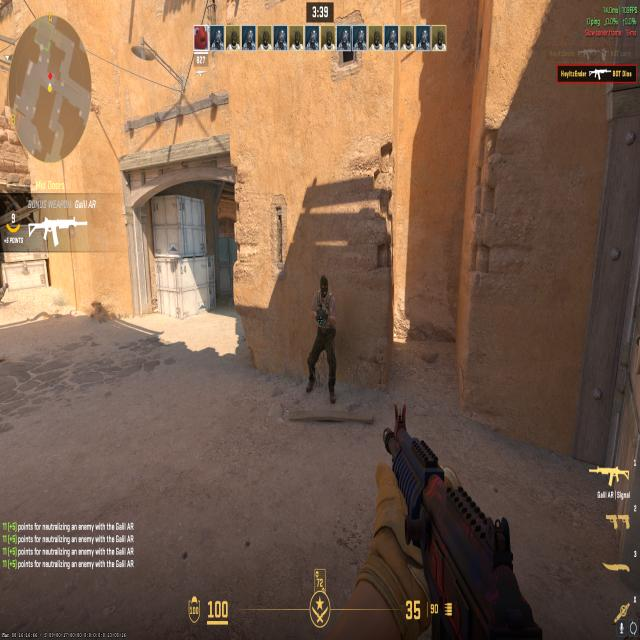t: (304, 273, 341, 404)
